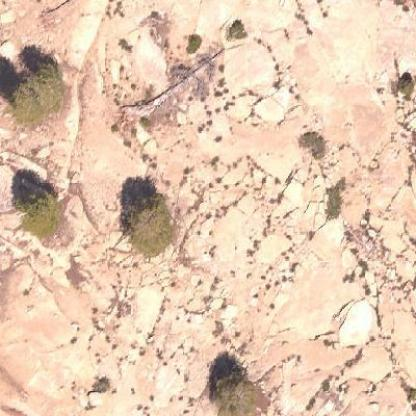tree-top: (0, 44, 69, 130), (112, 191, 192, 258), (8, 174, 74, 247), (198, 354, 271, 415)
